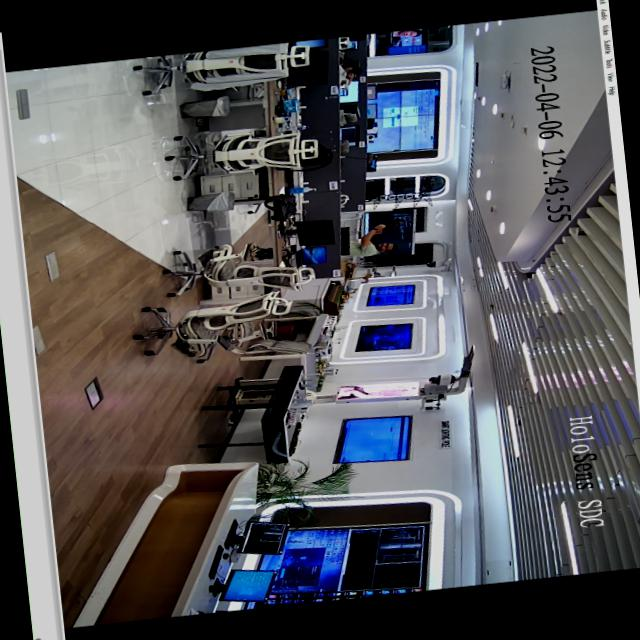long weapon: (368, 219, 403, 239)
